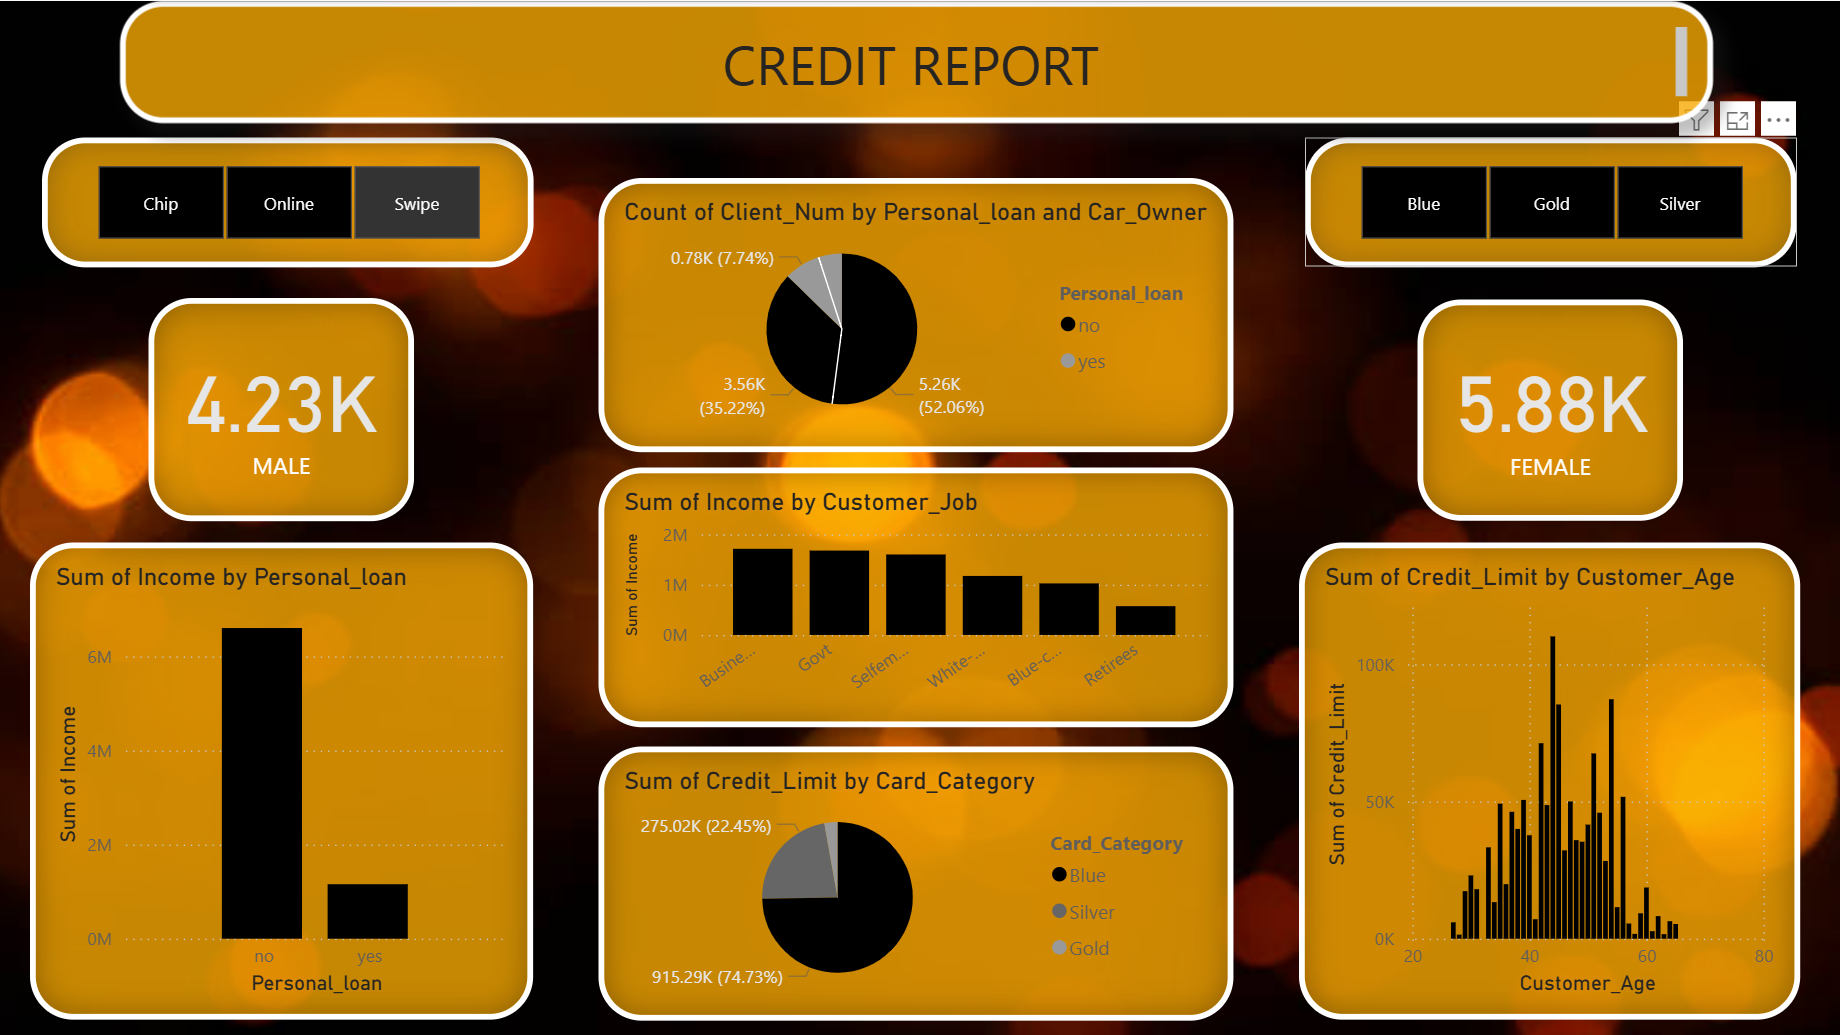

This screenshot's page, from the dashboard's own definition file:
{"tool":"powerbi","page":{"name":"Page 1","canvas":[1280,720],"ordinal":0},"visuals":[{"type":"card","fields":{"Values":["CountNonNull(customer.Gender)"]},"box":[986,206.8,184.3,153.3],"z":0},{"type":"card","fields":{"Values":["CountNonNull(customer.Gender)"]},"box":[106.9,205.4,184.3,154.7],"z":1000},{"type":"slicer","fields":{"Values":["cc_add.Use Chip"]},"box":[33.8,94.2,340.4,90],"z":2000},{"type":"lineStackedColumnComboChart","fields":{"Y":["Sum(cc_add.Credit_Limit)"],"Category":["cust_add.Customer_Age"]},"box":[904.4,375.6,347.4,330.5],"z":3000},{"type":"pieChart","fields":{"Category":["customer.Personal_loan"],"Y":["CountNonNull(customer.Client_Num)"],"Series":["customer.Car_Owner"]},"box":[419.2,122.4,440.3,189.9],"z":4000},{"type":"columnChart","fields":{"Category":["cust_add.Personal_loan"],"Y":["Sum(cust_add.Income)"]},"box":[25.3,375.6,348.8,330.5],"z":5000},{"type":"clusteredColumnChart","fields":{"Category":["cust_add.Customer_Job"],"Y":["Sum(cust_add.Income)"]},"box":[419.2,323.5,440.3,180],"z":6000},{"type":"slicer","fields":{"Values":["cc_add.Card_Category"]},"box":[908.7,94.2,340.4,90],"z":7000},{"type":"pieChart","fields":{"Category":["cc_add.Card_Category"],"Y":["Sum(cc_add.Credit_Limit)"]},"box":[419.2,516.2,440.3,189.9],"z":8000},{"type":"textbox","box":[87.2,0,1104.2,84.4],"z":9000}]}

Visuals, with their boxes in screenshot pixels (x1, y1, x2, y2), scaled from the page's 1280x720 canvas onto the 1840x1035 screenshot:
card - CountNonNull(customer.Gender): detection(1417, 297, 1682, 518)
card - CountNonNull(customer.Gender): detection(154, 295, 419, 518)
slicer - cc_add.Use Chip: detection(49, 135, 538, 265)
lineStackedColumnComboChart - Sum(cc_add.Credit_Limit) x cust_add.Customer_Age: detection(1300, 540, 1799, 1015)
pieChart - customer.Personal_loan x CountNonNull(customer.Client_Num): detection(603, 176, 1236, 449)
columnChart - cust_add.Personal_loan x Sum(cust_add.Income): detection(36, 540, 538, 1015)
clusteredColumnChart - cust_add.Customer_Job x Sum(cust_add.Income): detection(603, 465, 1236, 724)
slicer - cc_add.Card_Category: detection(1306, 135, 1796, 265)
pieChart - cc_add.Card_Category x Sum(cc_add.Credit_Limit): detection(603, 742, 1236, 1015)
textbox: detection(125, 0, 1713, 121)
